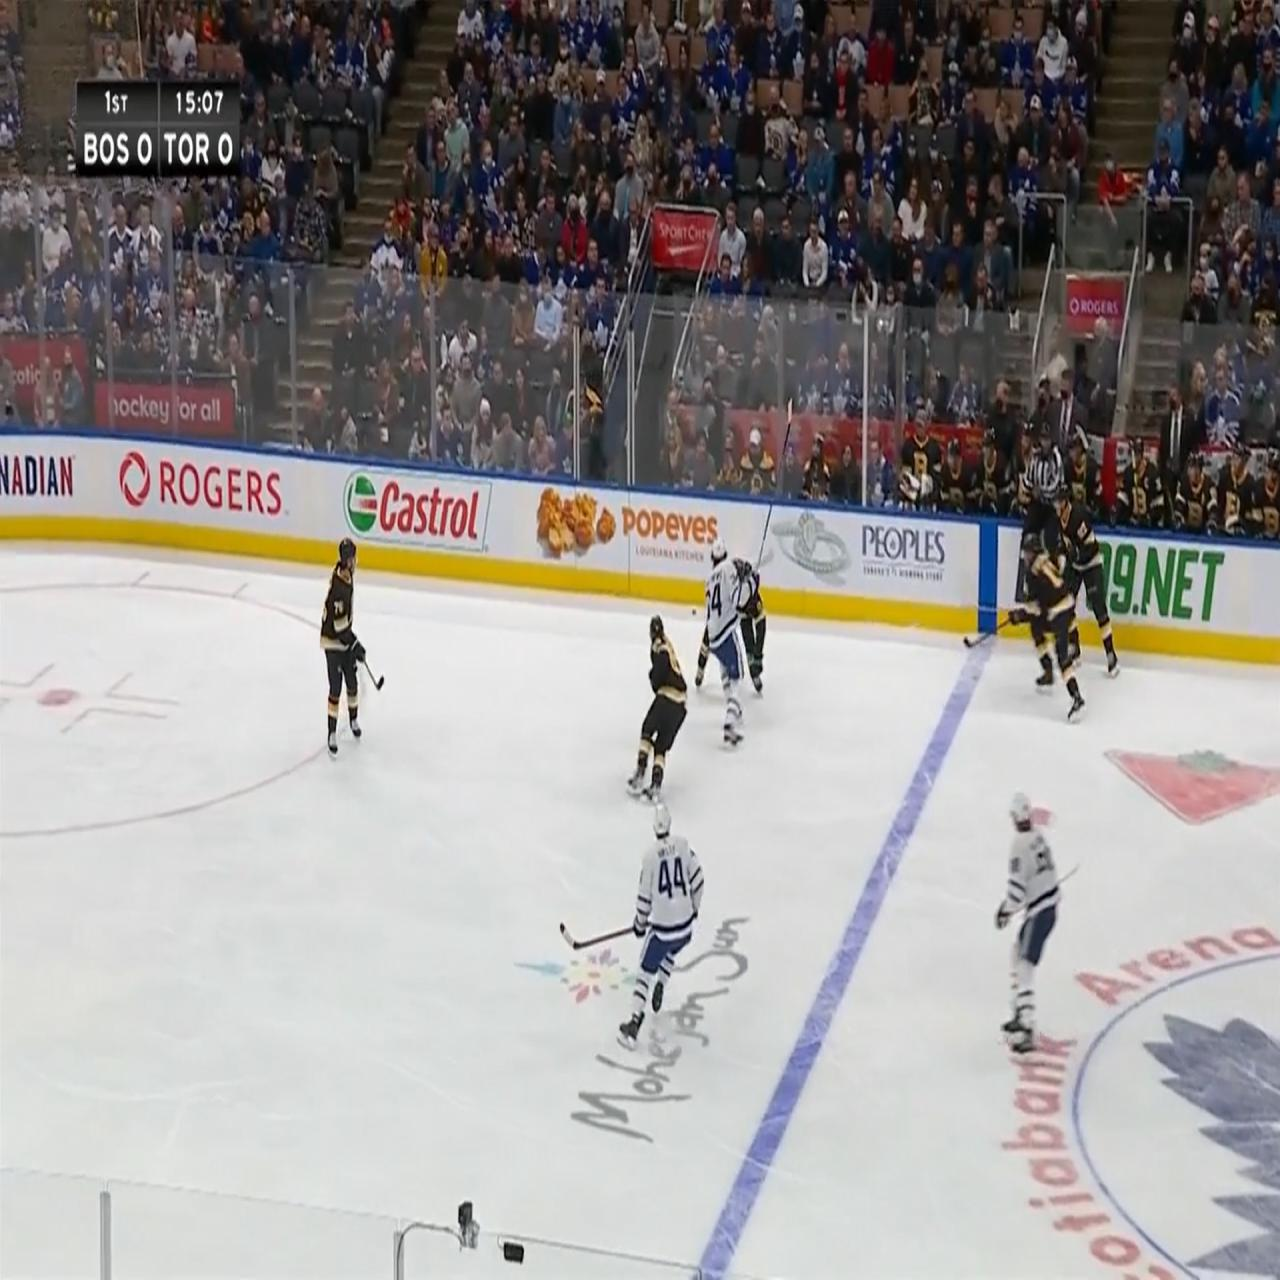Ad: (500, 890, 778, 1163), (1104, 718, 1279, 851), (532, 496, 740, 566), (341, 469, 497, 557), (769, 519, 964, 588), (124, 452, 286, 534), (1105, 552, 1237, 633), (0, 440, 86, 512)
